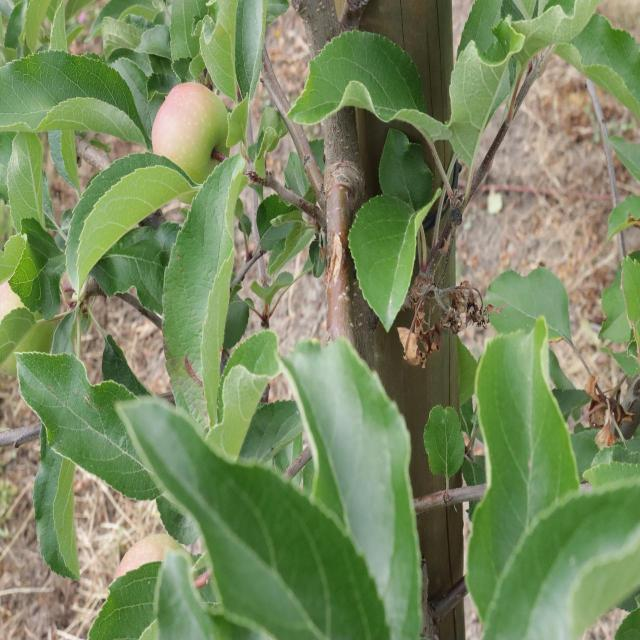-FireBlight-: (392, 285, 509, 364), (576, 377, 630, 457)
